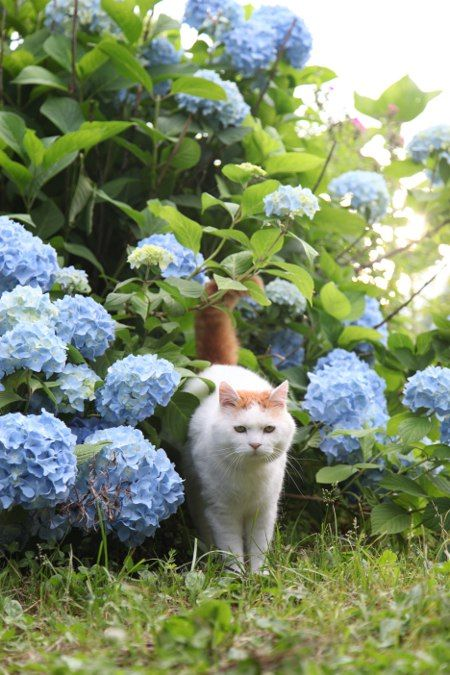cat: (167, 298, 296, 583)
